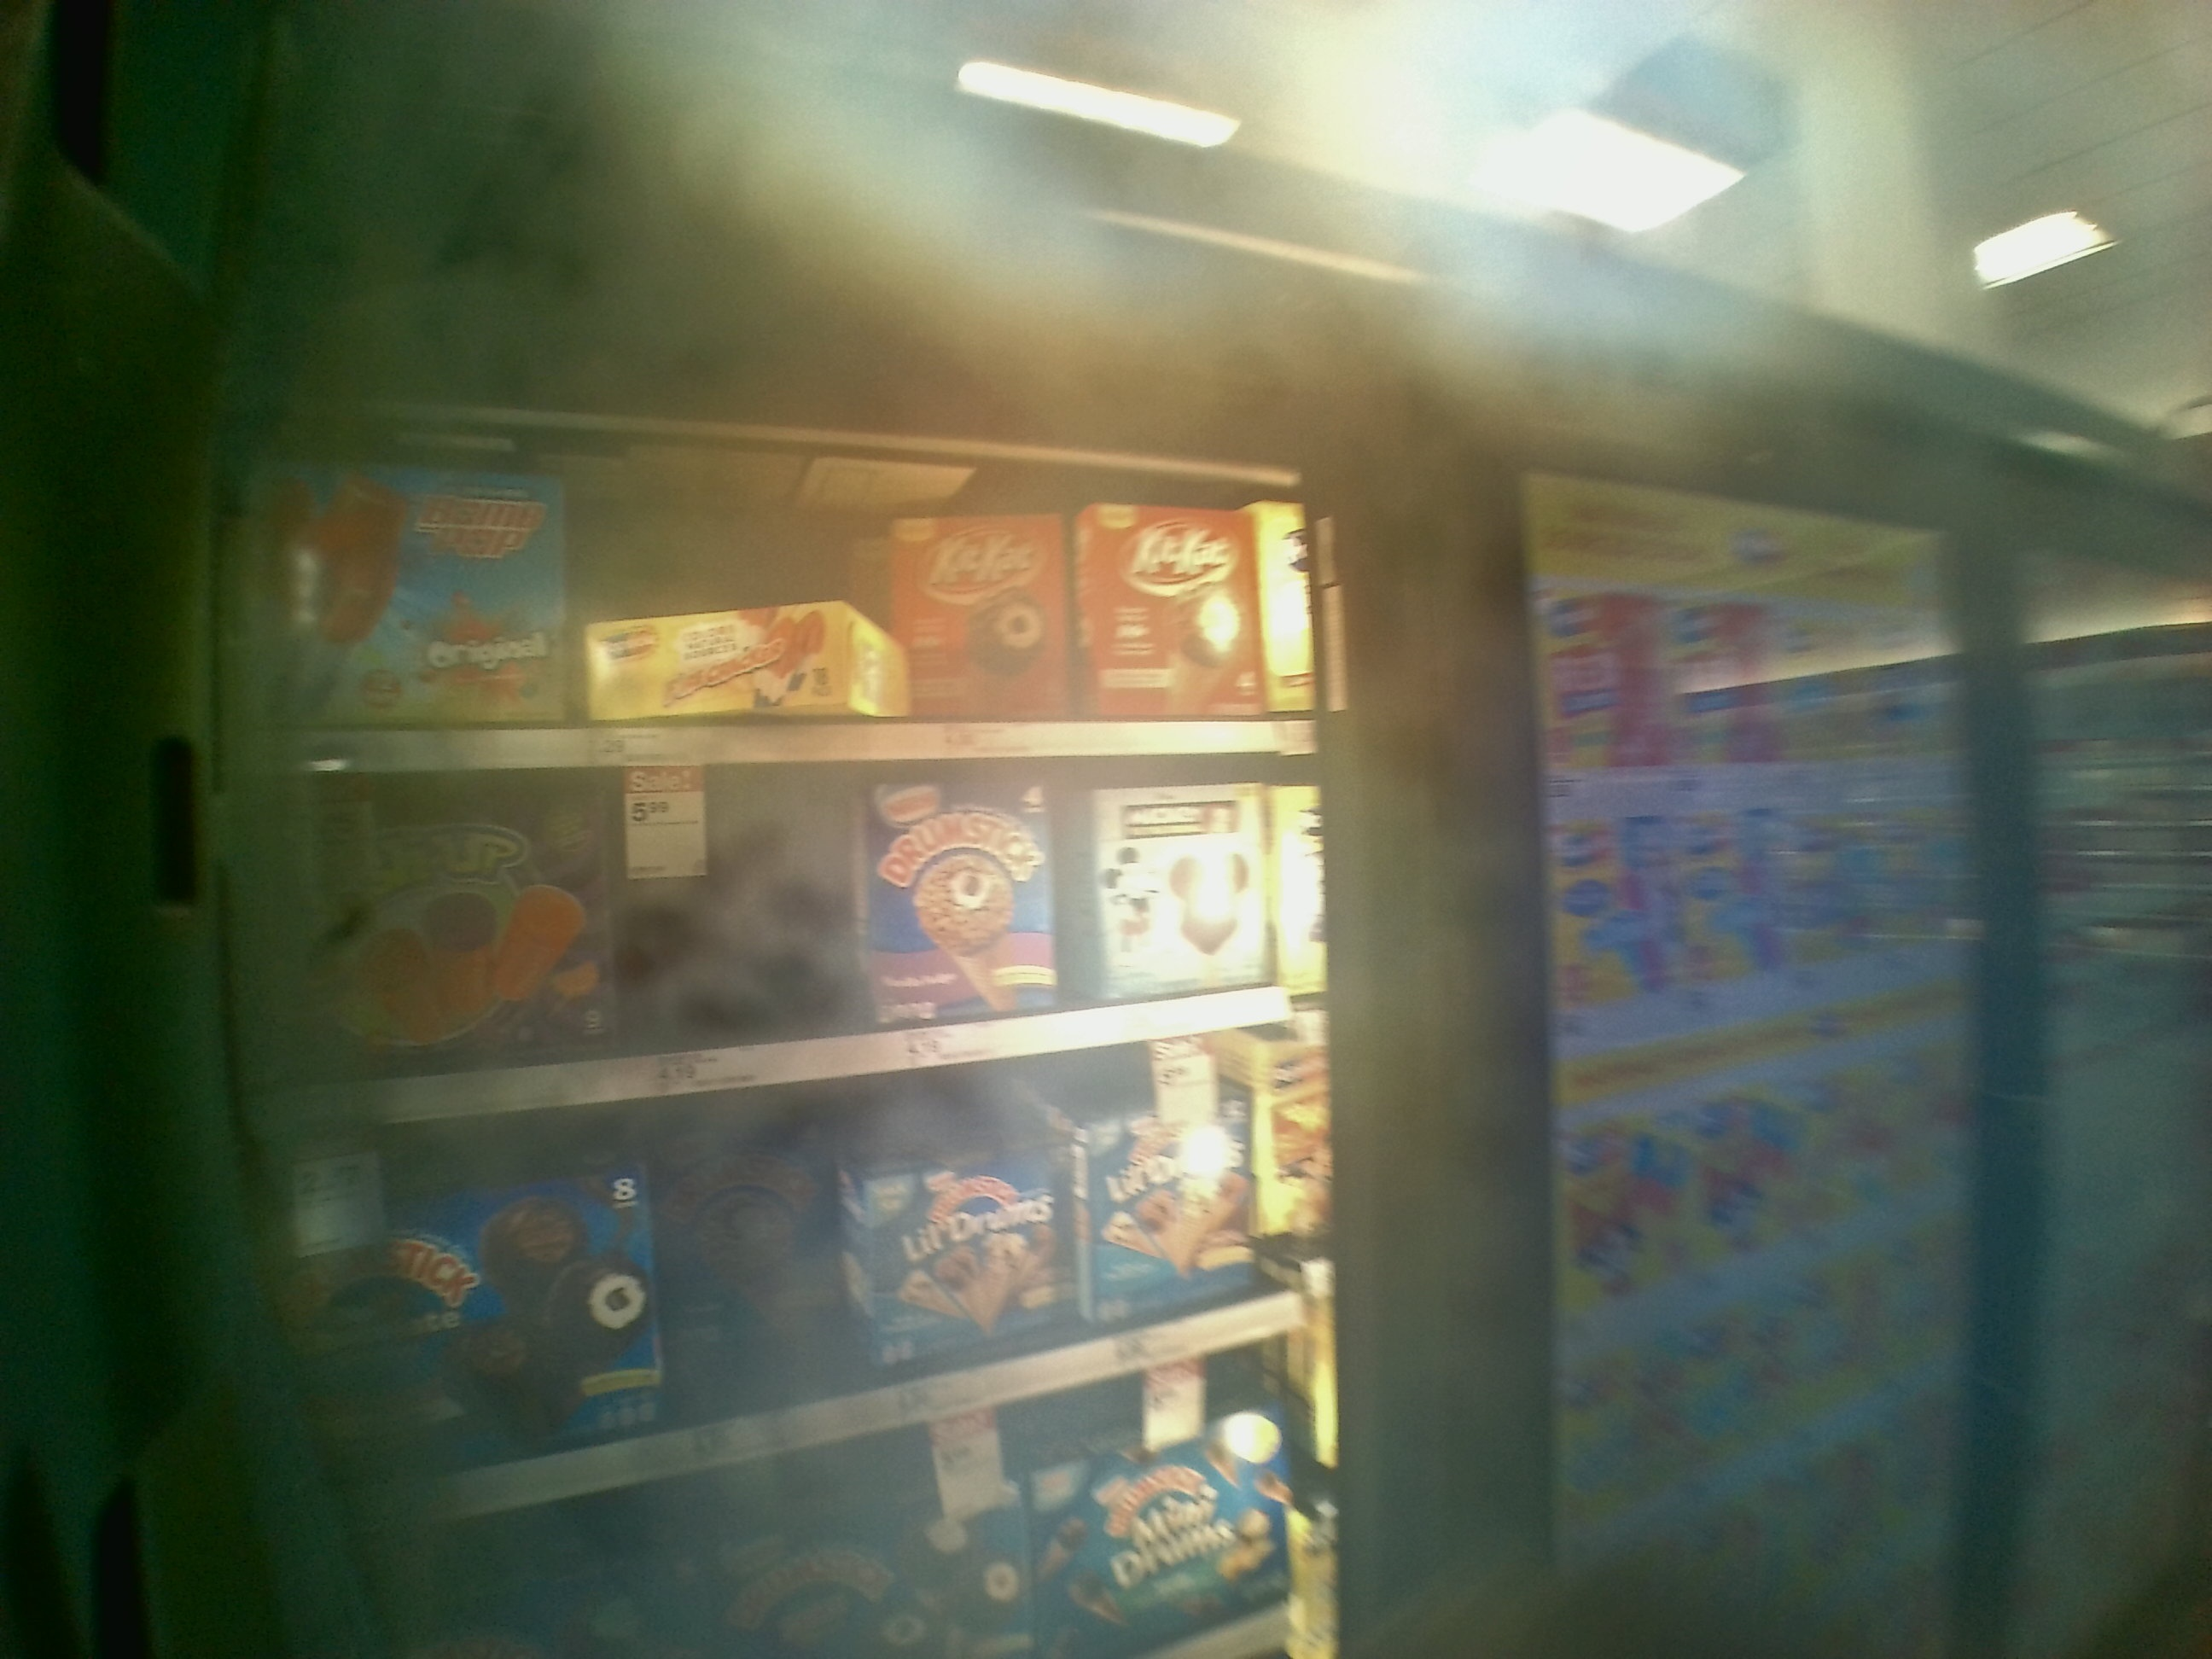shelf: (258, 985, 1334, 1530), (216, 744, 1332, 1121)
